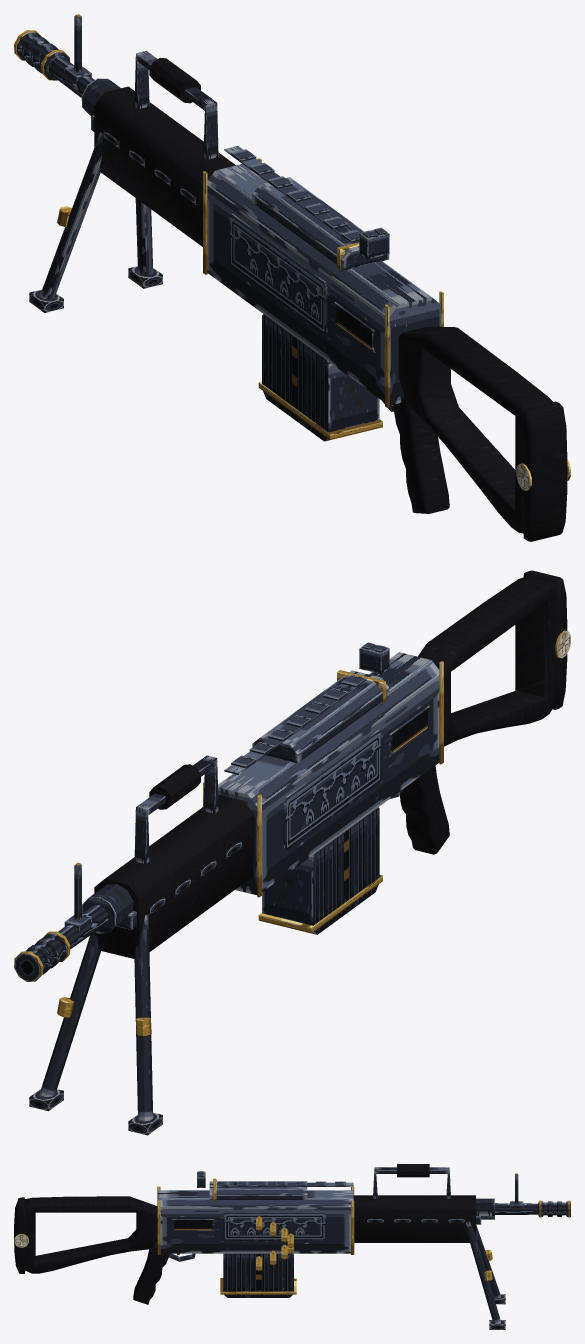
File: hmg_belt_base.glb
The picture shows the model from 3 angles, top to bottom: view 1: azimuth 30°, elevation 25°; view 2: azimuth 150°, elevation 25°; view 3: azimuth 270°, elevation 25°; orthographic projection. The views are drawn at different scales.
Parts seen in each view (by area): view 1: receiver, furniture, magazine; view 2: receiver, furniture, magazine; view 3: receiver, furniture, magazine.
Part boxes in pixels (x1=…): receiver: x1=14, y1=14, x2=443, y2=411; furniture: x1=94, y1=86, x2=570, y2=541; magazine: x1=258, y1=314, x2=382, y2=441; receiver: x1=14, y1=642, x2=443, y2=1135; furniture: x1=94, y1=570, x2=570, y2=958; magazine: x1=258, y1=807, x2=382, y2=934; receiver: x1=157, y1=1164, x2=570, y2=1329; furniture: x1=14, y1=1195, x2=475, y2=1304; magazine: x1=220, y1=1216, x2=296, y2=1297.
Size of the model in its own units: 0.135 by 0.3045 by 1.02.
2 materials, 2 textured.
